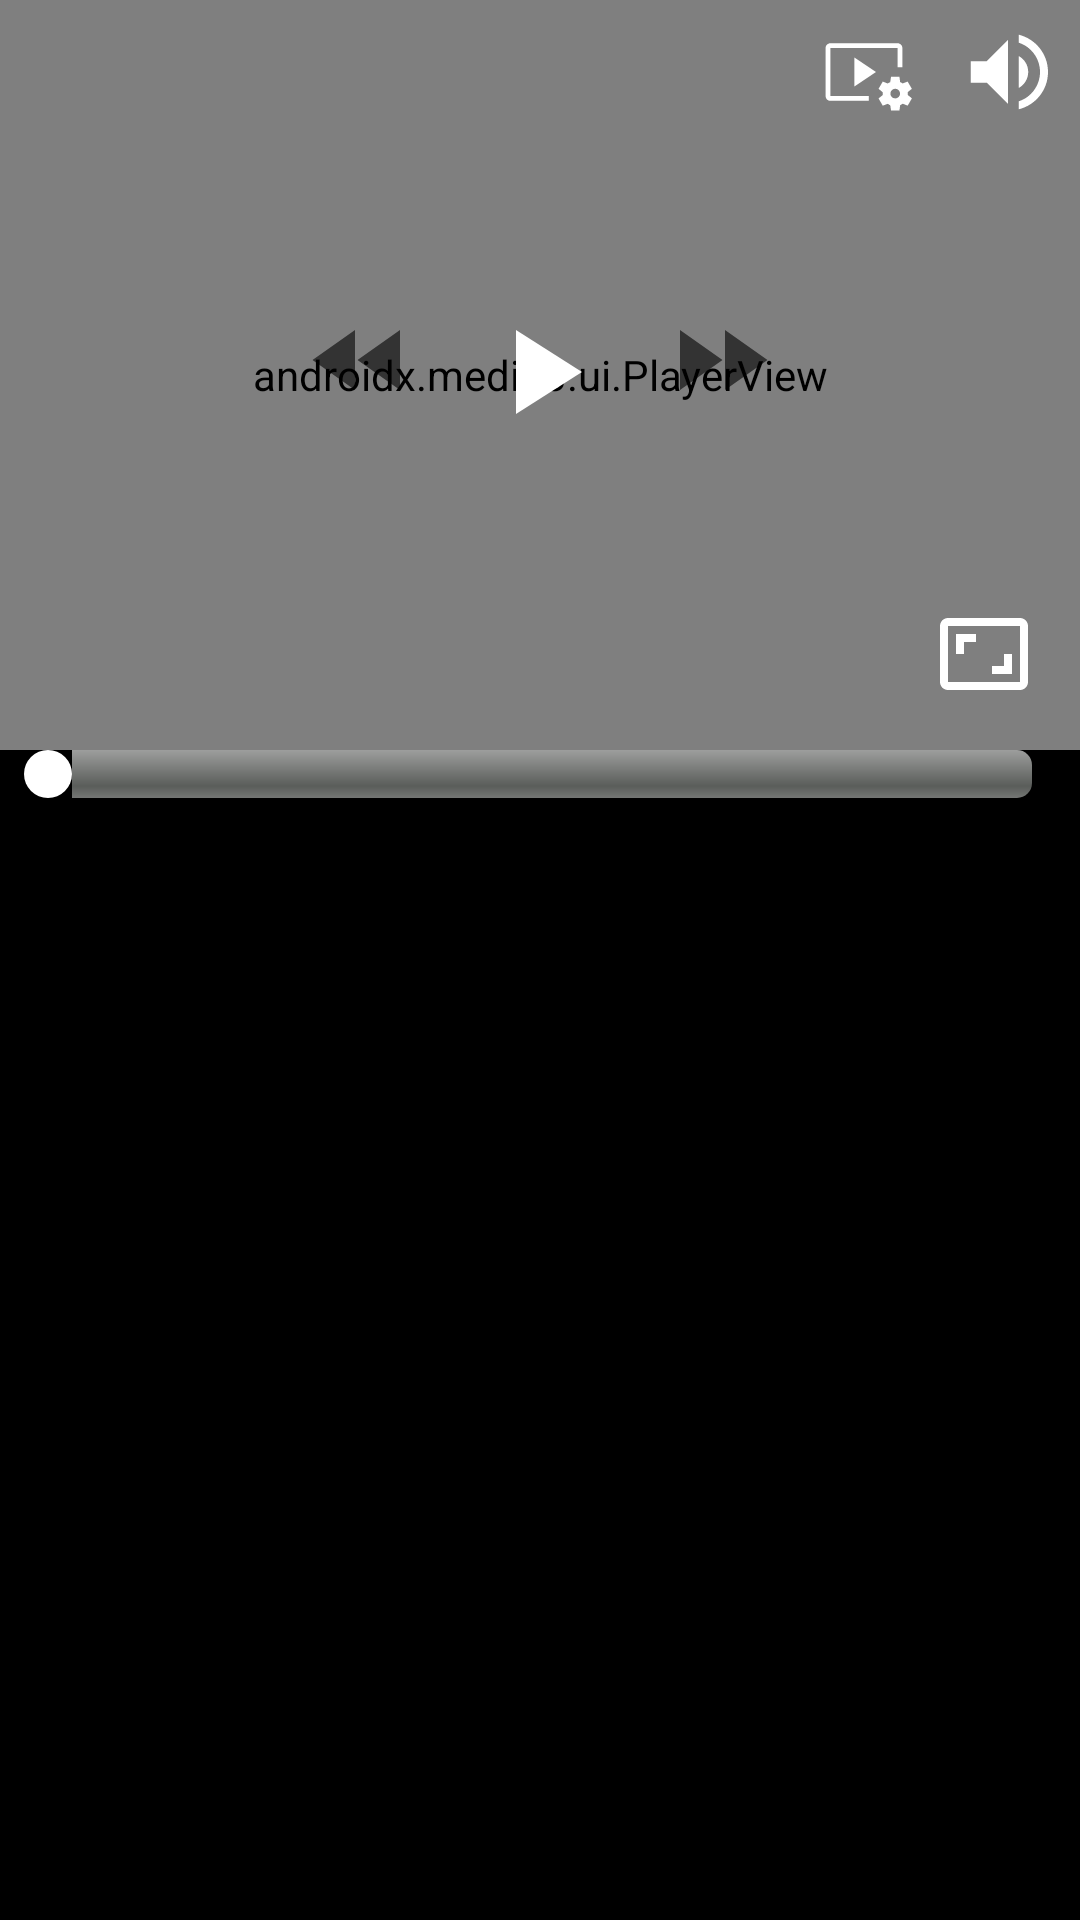

Icons on this 1080×1920 Android screen, each with the point to tap as point (x, y):
fullscreen enter: point (984, 654)
quality: point (868, 77)
volume on: point (1009, 72)
